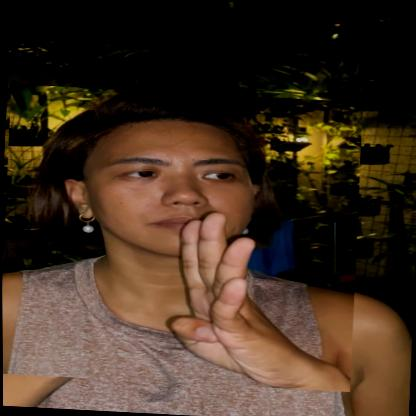Talk: (0, 83, 364, 392)
